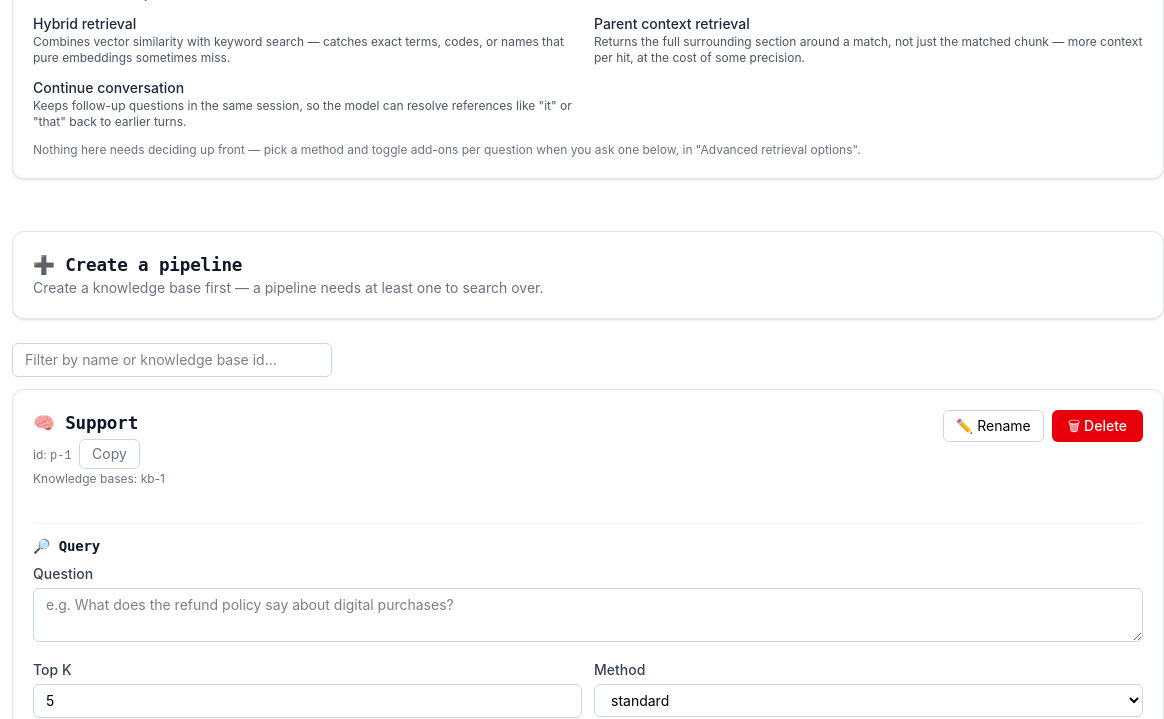
it: RagPipelinesPage › filters pipelines by name
The image size is (1164, 719).
(page scrolled)
Expected: the heading "🧠 Support" is shown, [33, 413, 138, 433]
Type "sal" into the field named "Filter pipelines" at point(172, 360), box [12, 343, 332, 377]
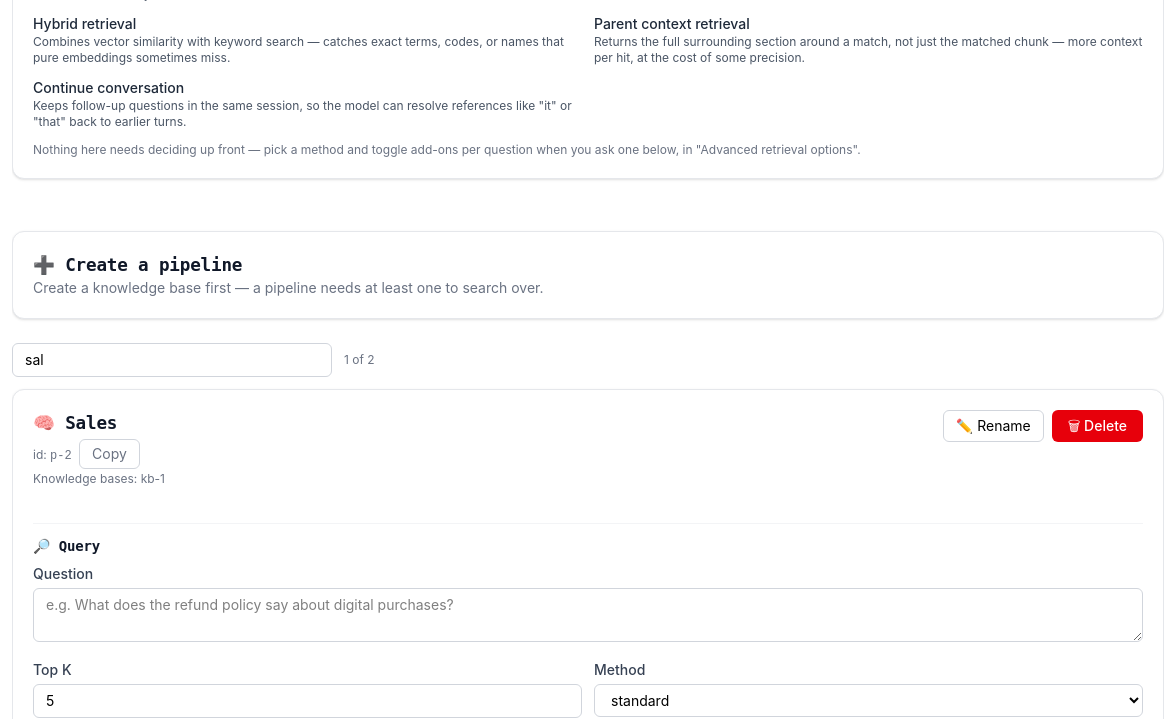
Expected: the heading "🧠 Sales" is shown, [33, 413, 117, 433]
Expected: the heading "Support" is gone
Expected: the text "1 of 2" is shown, [344, 352, 375, 368]
